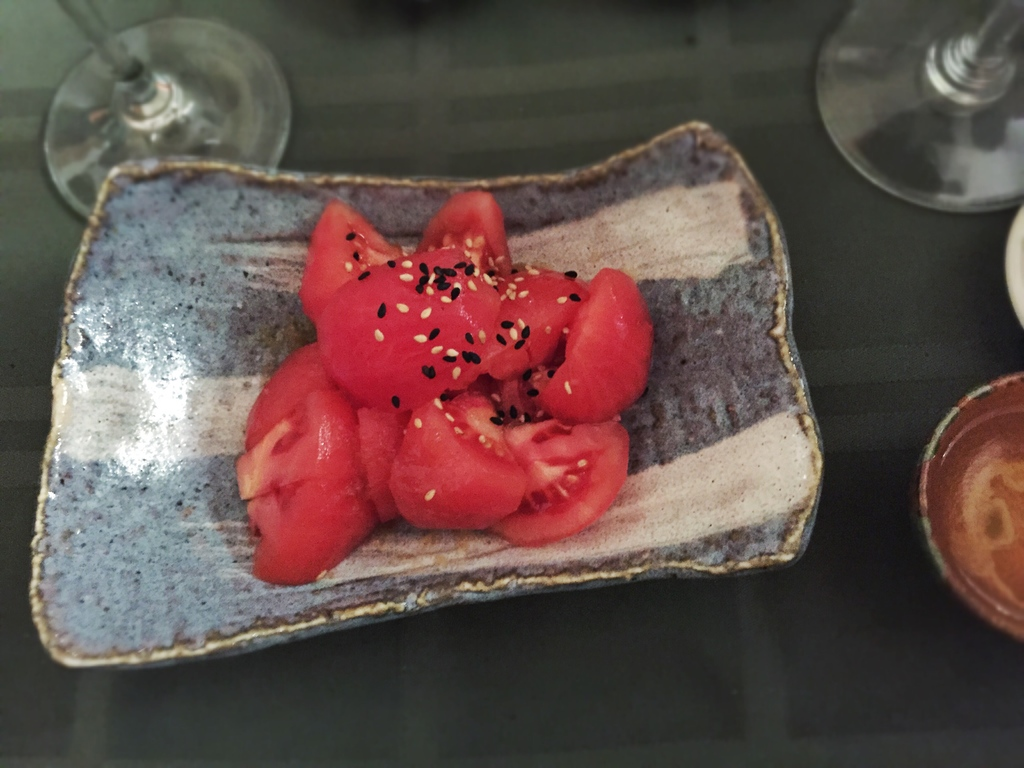Tomato: (237, 187, 651, 580), (386, 395, 608, 540)
